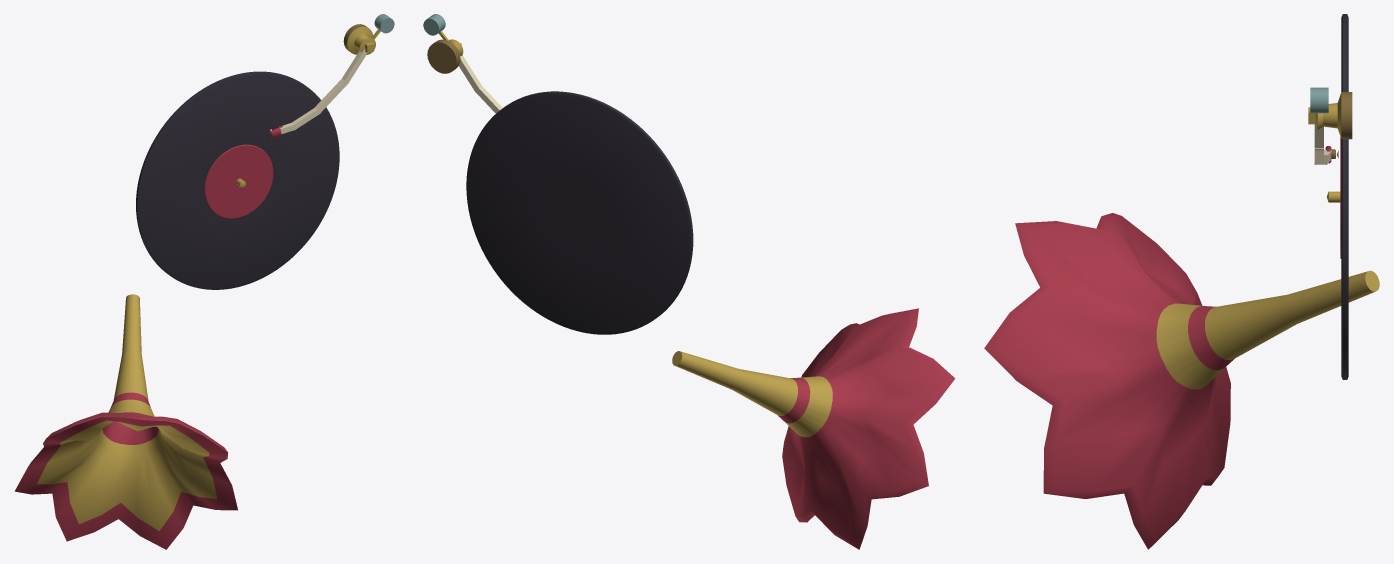
The model's file is vinyl_sun.glb.
3 renders of one model, left to right at view 1: azimuth 30°, elevation 25°; view 2: azimuth 150°, elevation 25°; view 3: azimuth 270°, elevation 25°, orthographic. The views are drawn at different scales.
Parts seen in each view (by area): view 1: sw_record, sw_horn, sw_arm, sw_armbase; view 2: sw_record, sw_horn, sw_arm, sw_armbase; view 3: sw_horn, sw_record, sw_arm, sw_armbase.
Part boxes in pixels (bbox=[...]): sw_record: bbox=[136, 71, 339, 289]; sw_horn: bbox=[14, 294, 237, 549]; sw_arm: bbox=[270, 14, 394, 138]; sw_armbase: bbox=[343, 24, 375, 54]; sw_record: bbox=[466, 91, 693, 334]; sw_horn: bbox=[672, 308, 955, 549]; sw_arm: bbox=[423, 14, 502, 113]; sw_armbase: bbox=[427, 39, 463, 73]; sw_horn: bbox=[984, 213, 1379, 549]; sw_record: bbox=[1327, 14, 1348, 379]; sw_arm: bbox=[1308, 87, 1338, 164]; sw_armbase: bbox=[1315, 92, 1352, 139].
Size of the model in its own units: 4.09 by 4.03 by 2.16.
